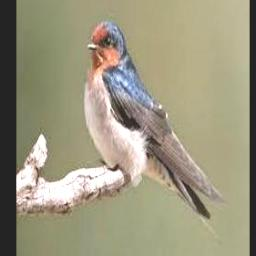Swallow: (83, 21, 228, 244)
